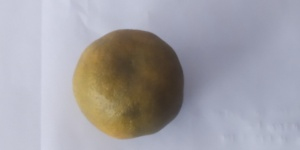BAD: (71, 29, 195, 142)
